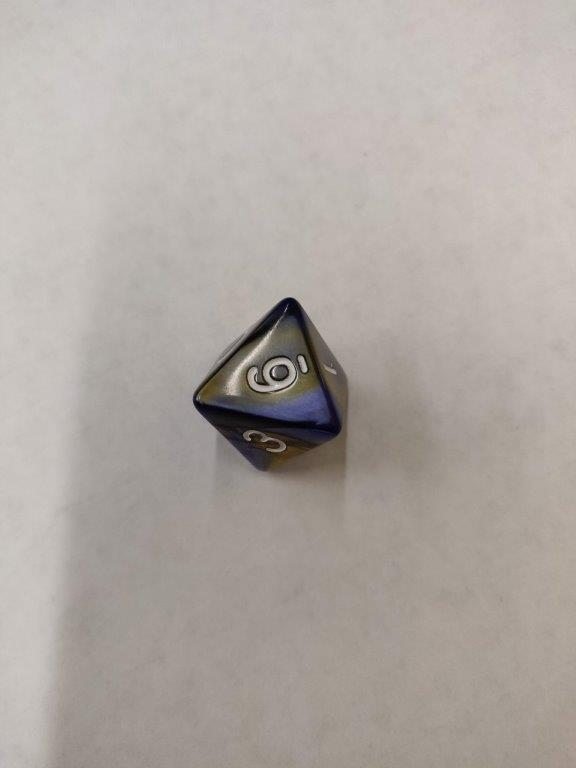d8-6: (188, 296, 351, 477)
